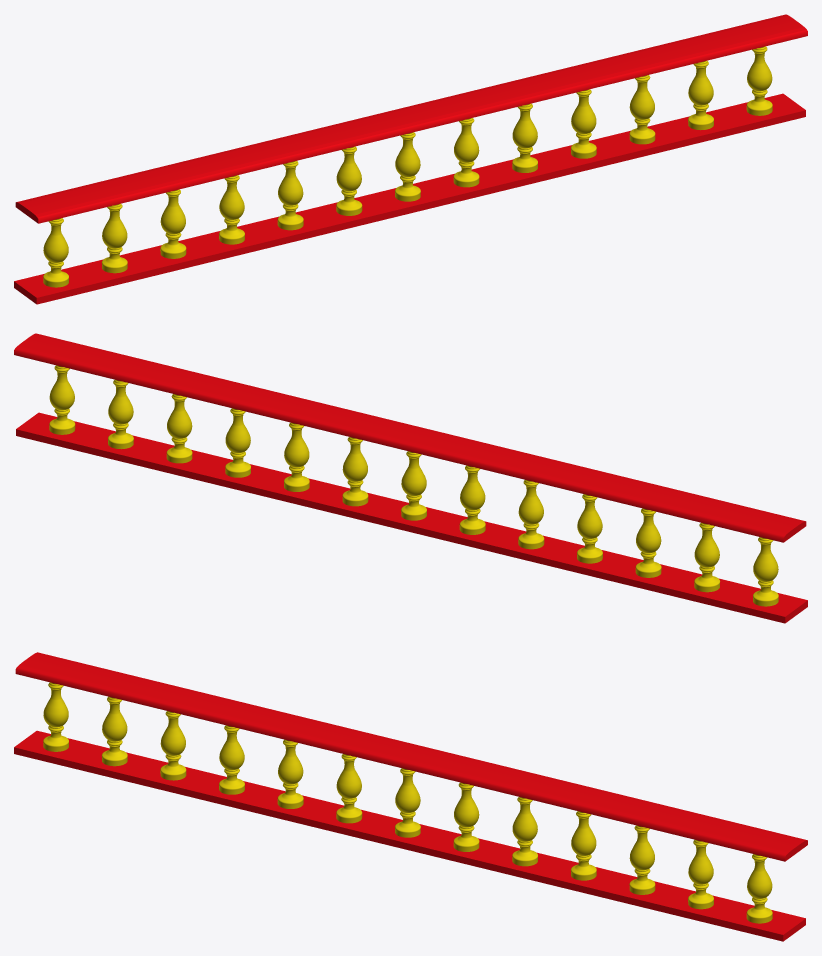
Rendered from Rembarde13.fbx.
The picture shows the model from 3 angles, top to bottom: view 1: azimuth 30°, elevation 25°; view 2: azimuth 150°, elevation 25°; view 3: azimuth 330°, elevation 25°; orthographic projection.
Visible parts, largest first — view 1: 13; view 2: 13; view 3: 13.
Part boxes in pixels (<box>): 13: <box>14,14,807,304</box>; 13: <box>14,333,807,623</box>; 13: <box>14,652,807,941</box>.
Bounding box in the file's own units: 649 × 71.27 × 33.28.
